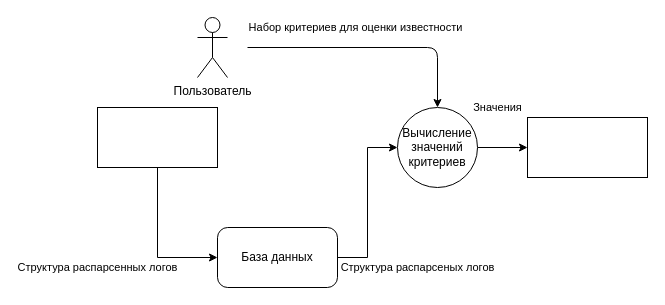
This 665x305 diagram has some shape labels left out. The centre of each missing label's shape, as x and y in pixels:
Подсистема визуализации информации: point 587,147
Подсистема парсинга логов: point 157,137
